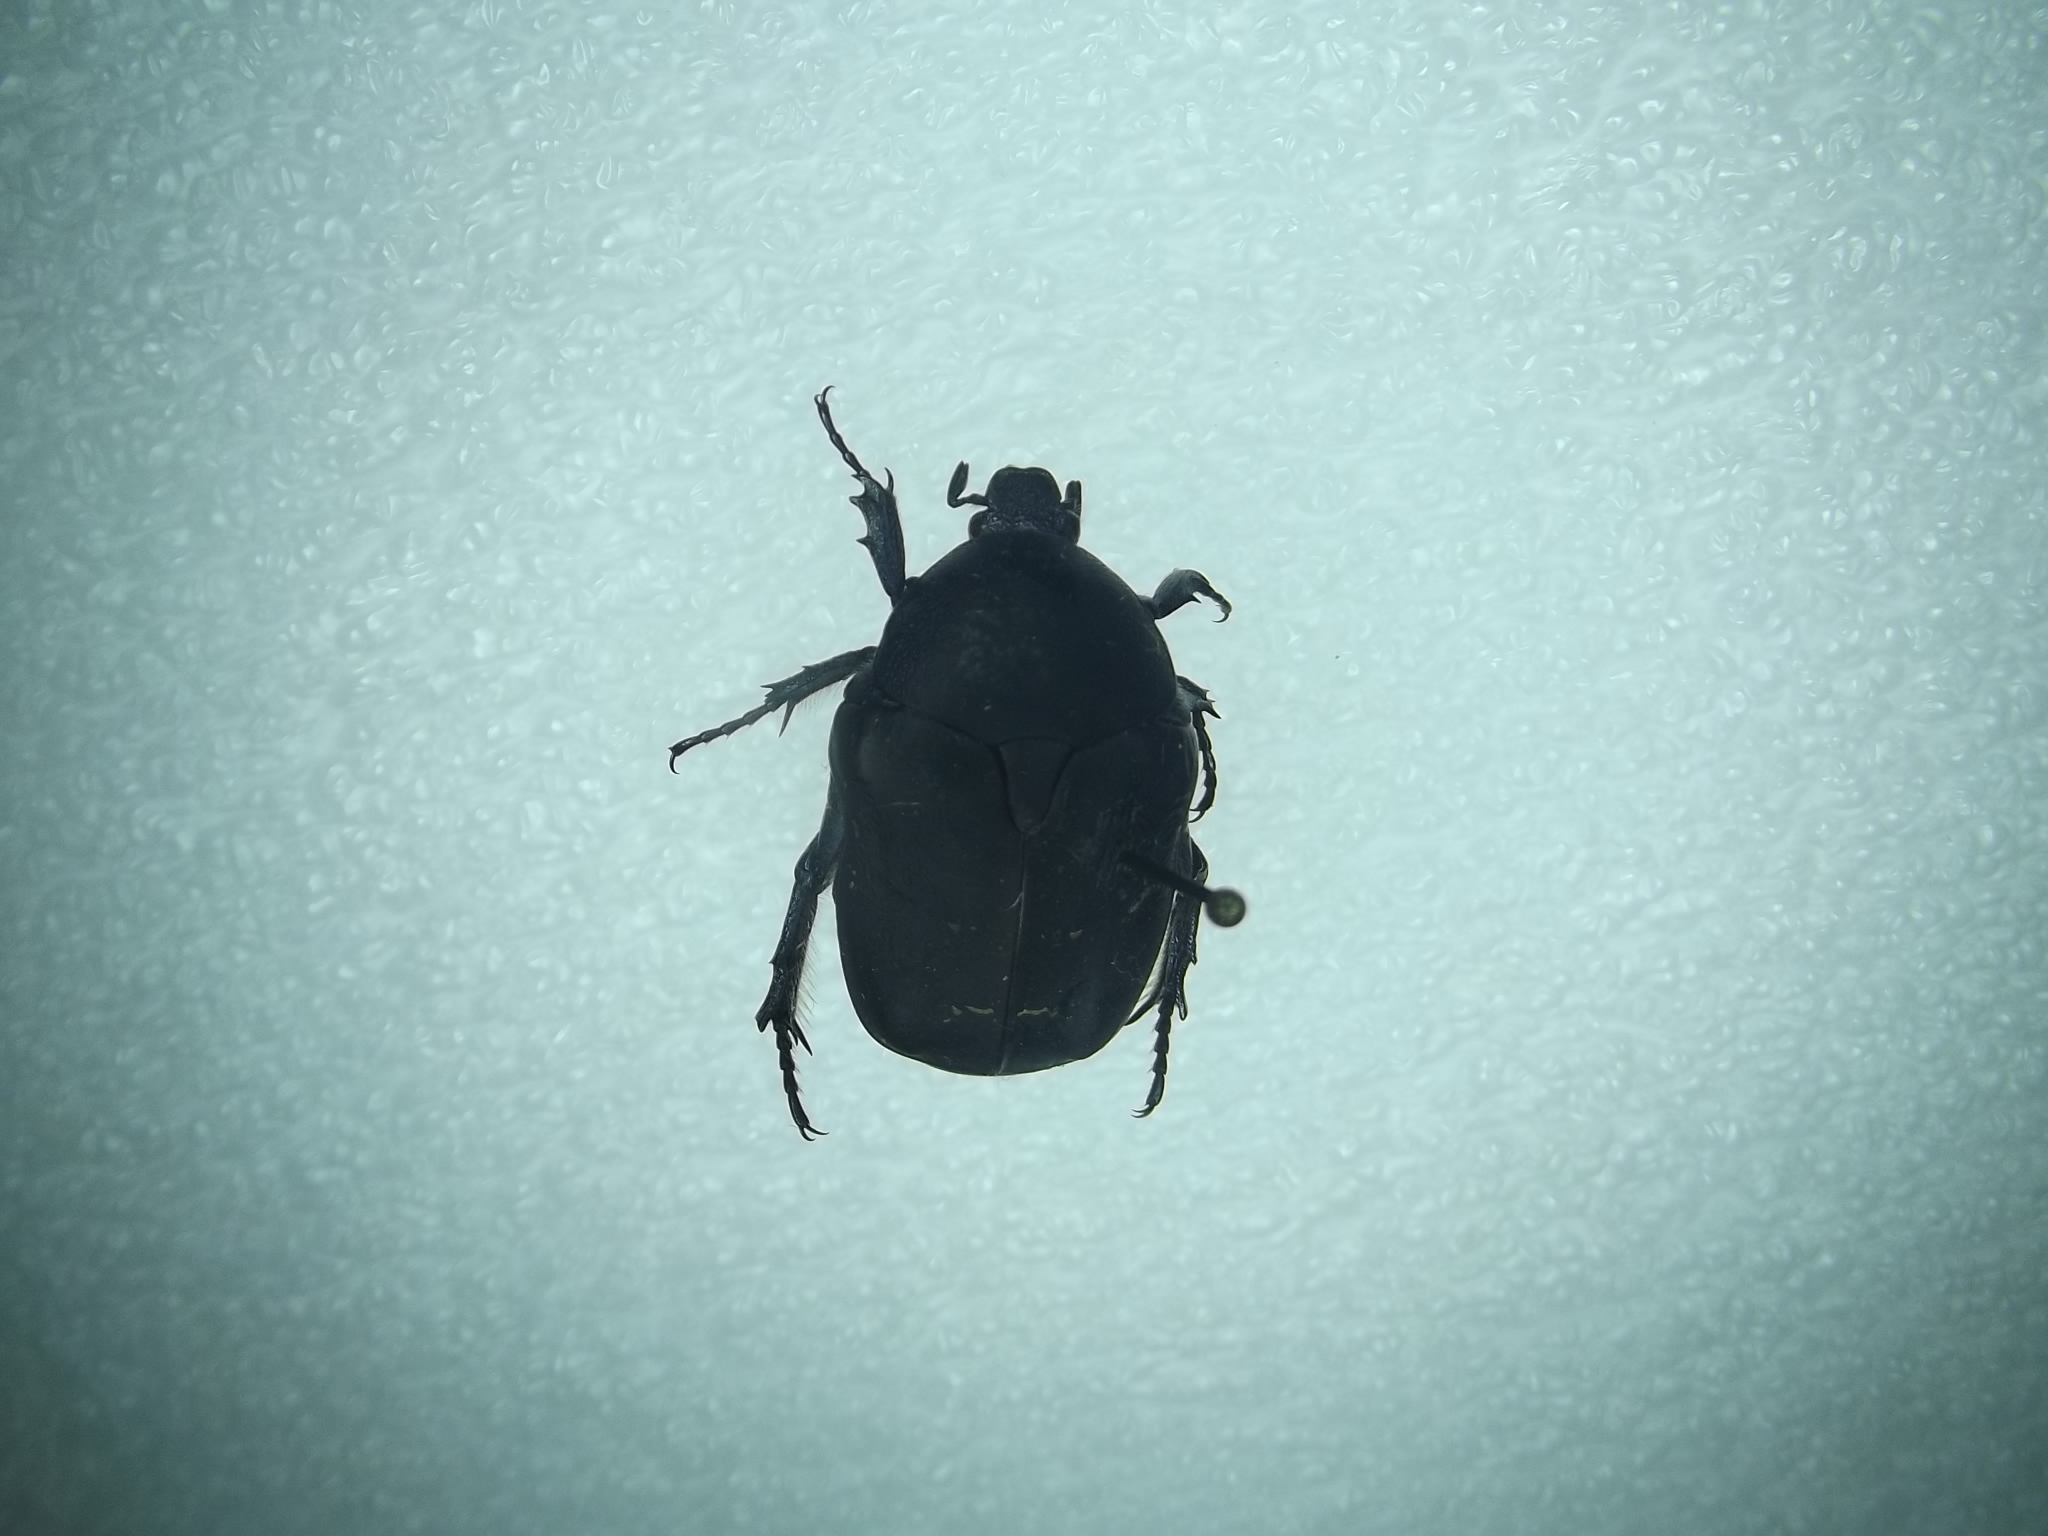Protaetia_ungarica_americana: (650, 366, 1301, 1139)
